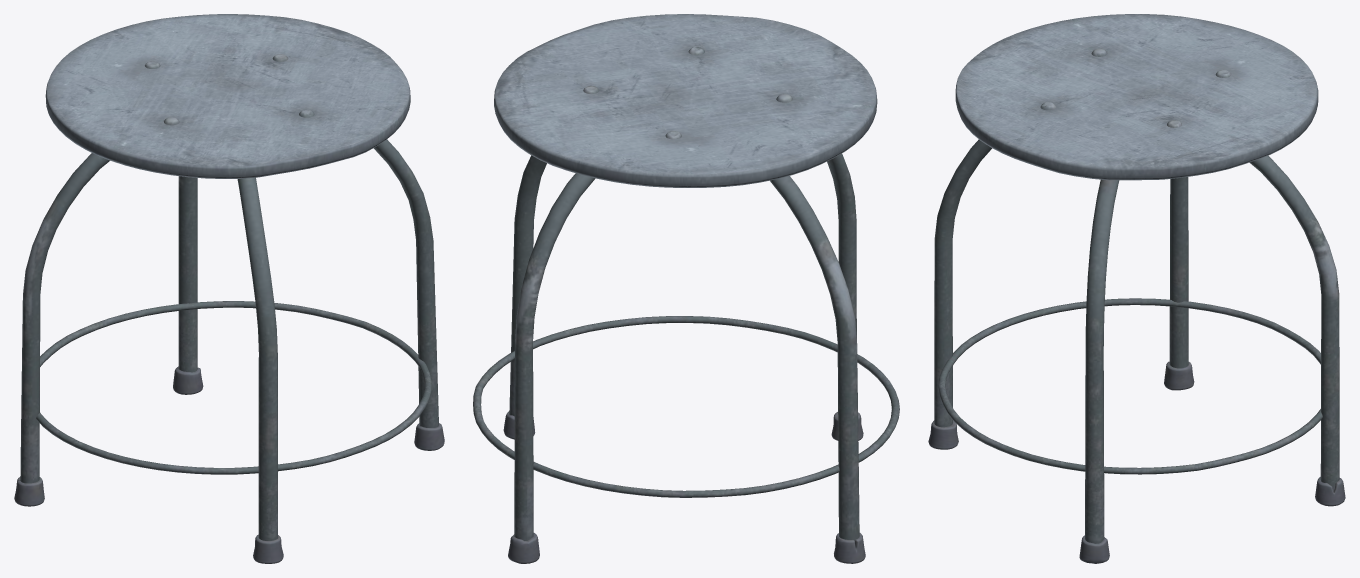
The model's file is stool.glb.
The picture shows the model from 3 angles, left to right: view 1: azimuth 30°, elevation 25°; view 2: azimuth 150°, elevation 25°; view 3: azimuth 270°, elevation 25°; orthographic projection. The views are drawn at different scales.
Visible parts, largest first — view 1: stool; view 2: stool; view 3: stool.
Part boxes in pixels (x1,y1,x2,y2): stool: (14, 14, 444, 563); stool: (473, 14, 899, 563); stool: (928, 14, 1345, 563).
Bounding box in the file's own units: 0.4731 × 0.4581 × 0.4481.
1 material, 1 textured.
